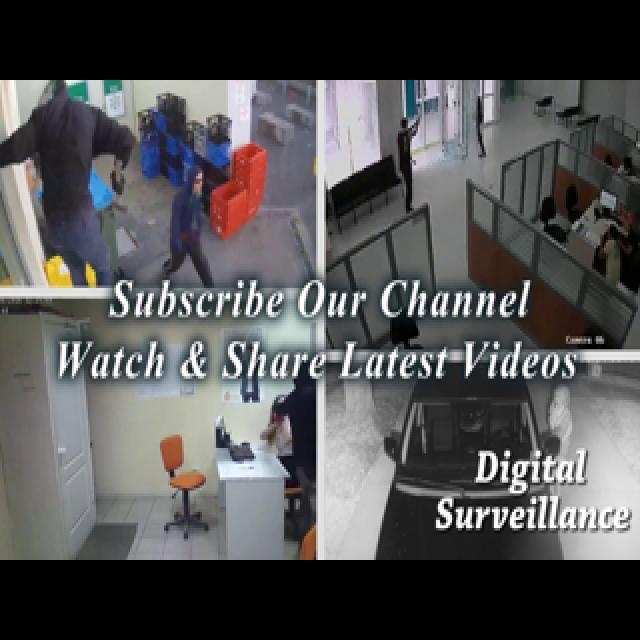burglary: (40, 55, 336, 380)
